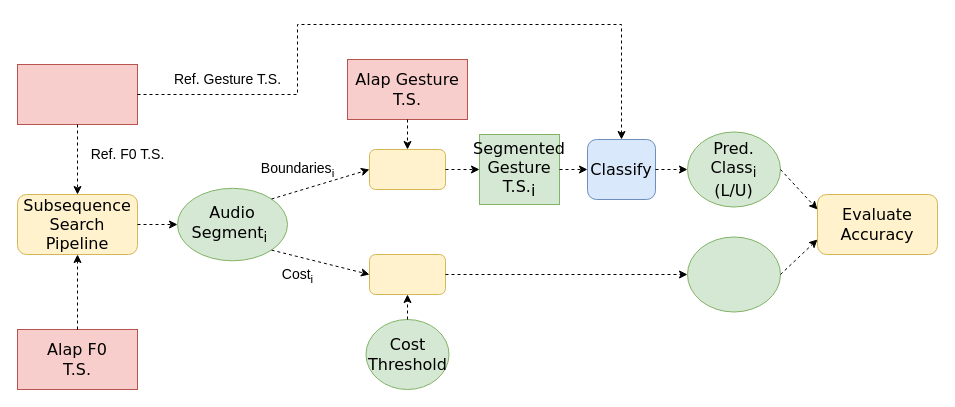
Image size: 955x407. Some labels were removed from this diagram. Each missing label, with the centre of its shape:
Align: the point at 407,169
Compare: the point at 407,274
Label i (L/U): the point at 733,274
Ref. Phrase Template: the point at 77,94
